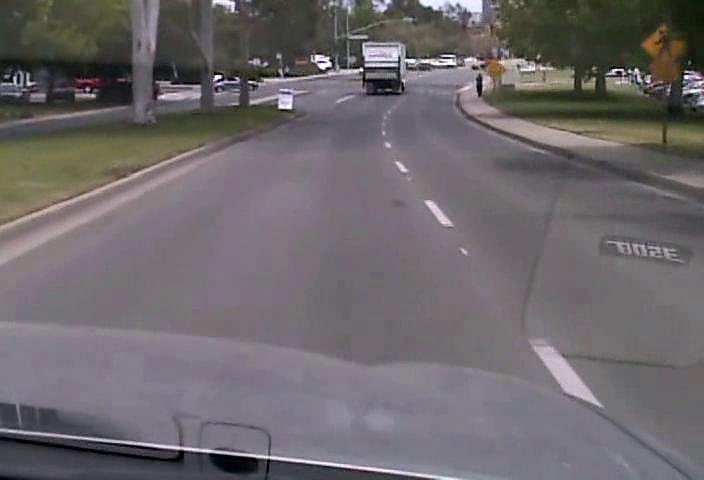pedestrianCrossing: (640, 21, 689, 63)
